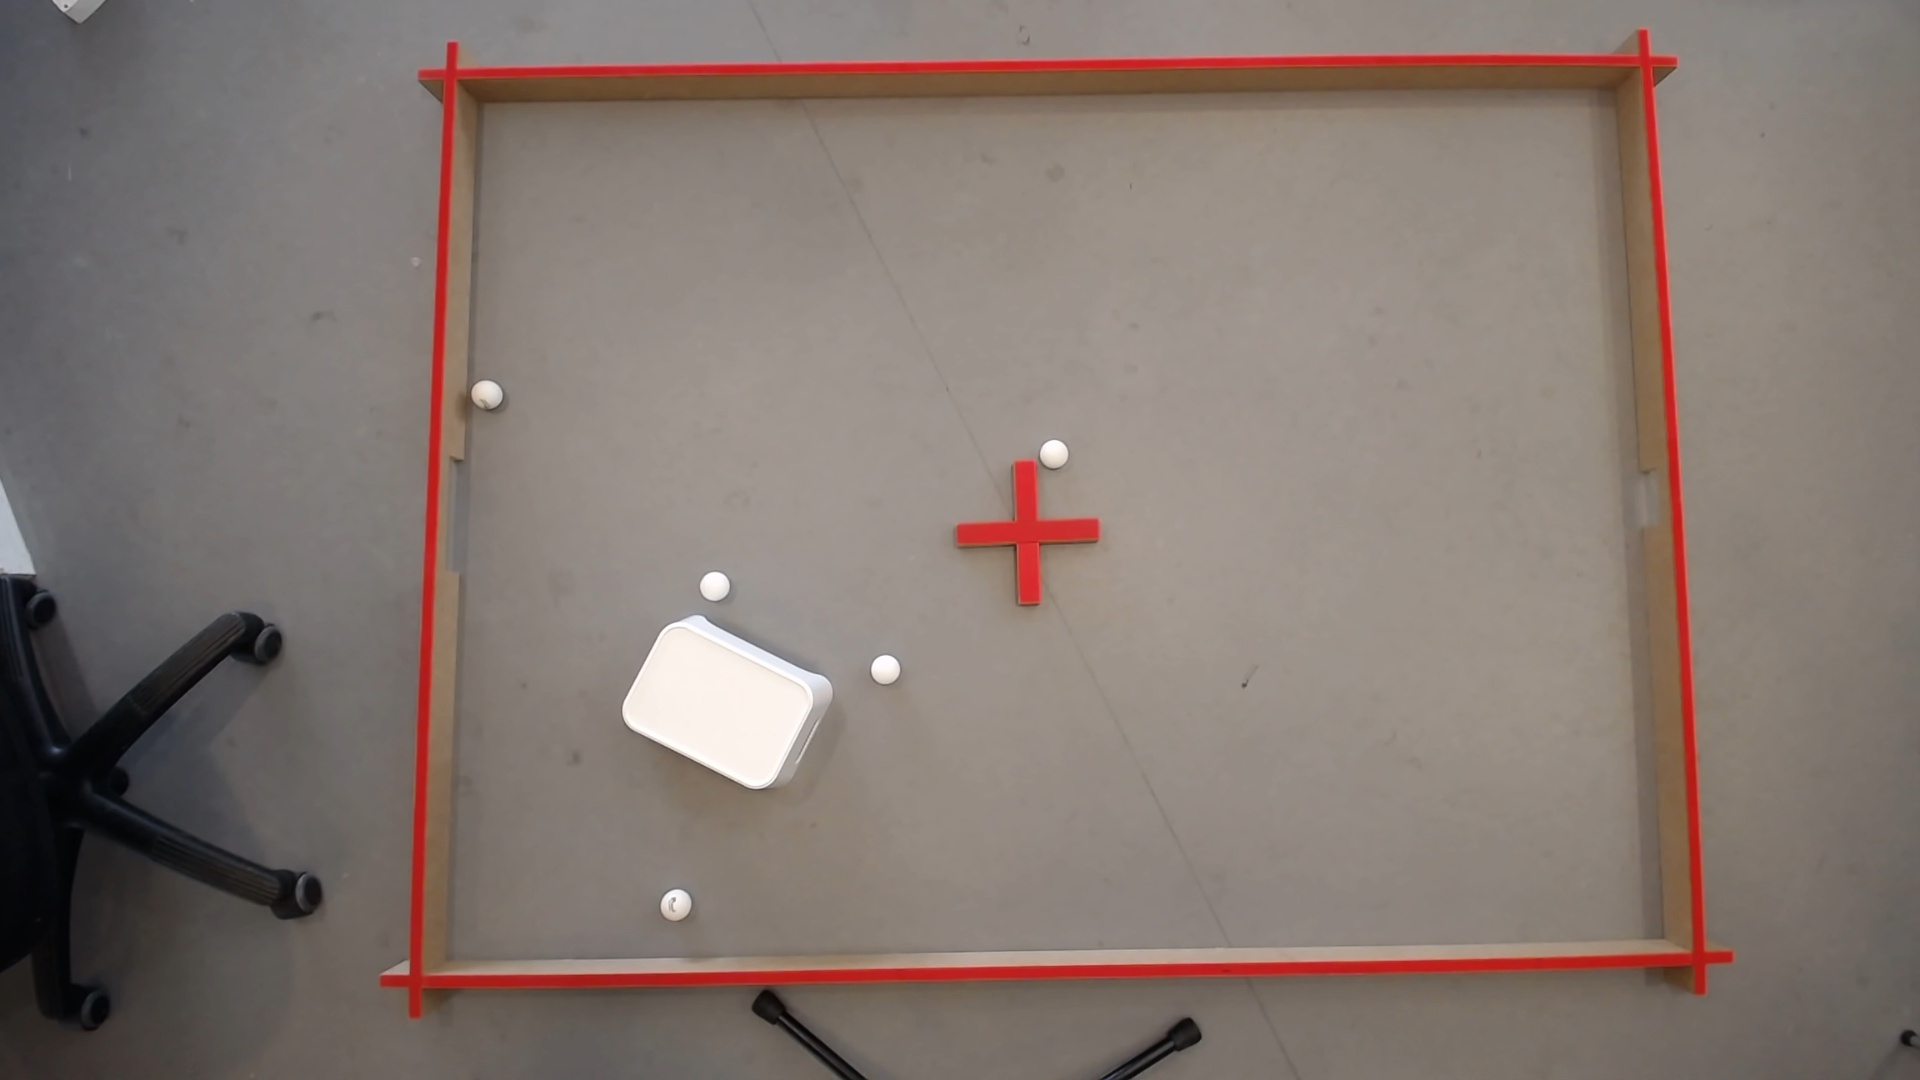balls: (613, 600, 831, 798), (654, 884, 694, 922), (695, 566, 733, 604), (866, 650, 902, 684), (1035, 434, 1071, 468)
car: (469, 375, 504, 406)
